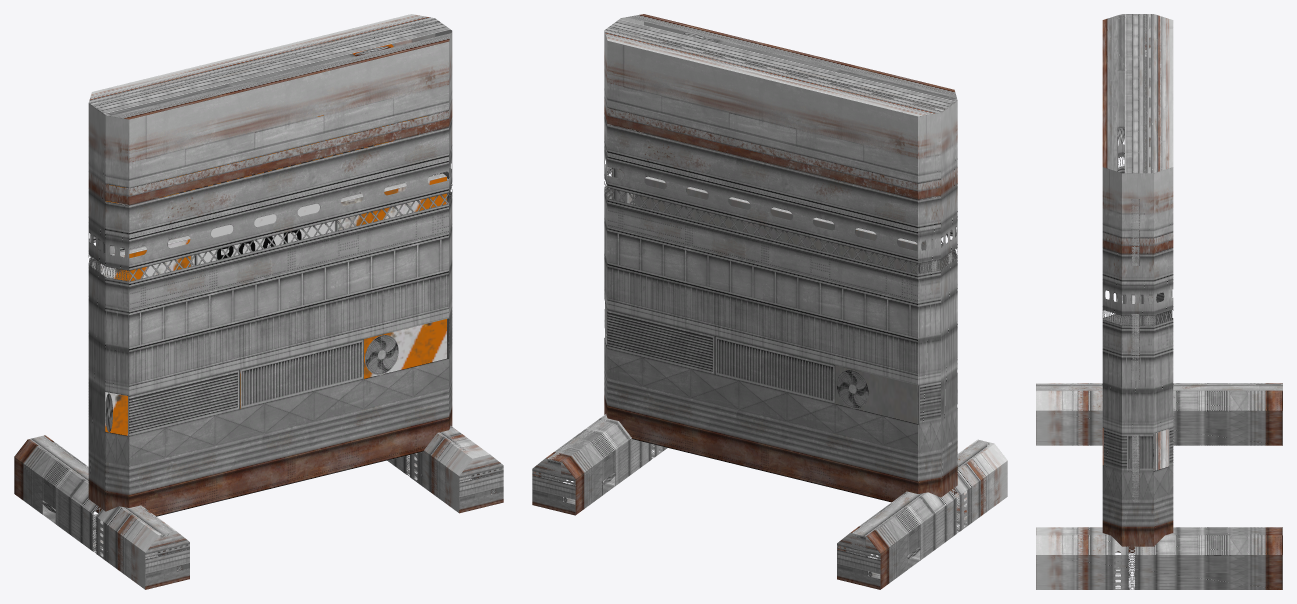
Rendered from construction_sign_big_b.DAE.
3 views of the same model, side by side, from view 1: azimuth 30°, elevation 25°; view 2: azimuth 150°, elevation 25°; view 3: azimuth 270°, elevation 25° (orthographic). The views are drawn at different scales.
Parts seen in each view (by area): view 1: colmesh-1, ClosedRoad_sign_big_b200; view 2: colmesh-1, ClosedRoad_sign_big_b200; view 3: colmesh-1, ClosedRoad_sign_big_b200.
Boxes of the visible parts, <box> form: colmesh-1: <box>14,14,503,589</box>; ClosedRoad_sign_big_b200: <box>30,43,467,546</box>; colmesh-1: <box>532,14,1007,589</box>; ClosedRoad_sign_big_b200: <box>547,41,989,551</box>; colmesh-1: <box>1036,14,1282,589</box>; ClosedRoad_sign_big_b200: <box>1036,50,1282,548</box>.
Bounding box in the file's own units: 2.56 × 1.62 × 3.
